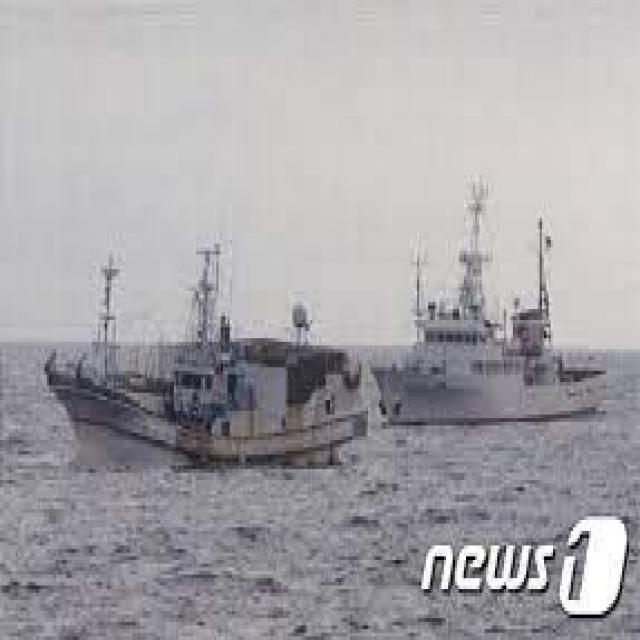Ship: (28, 266, 378, 481), (367, 194, 619, 442)
